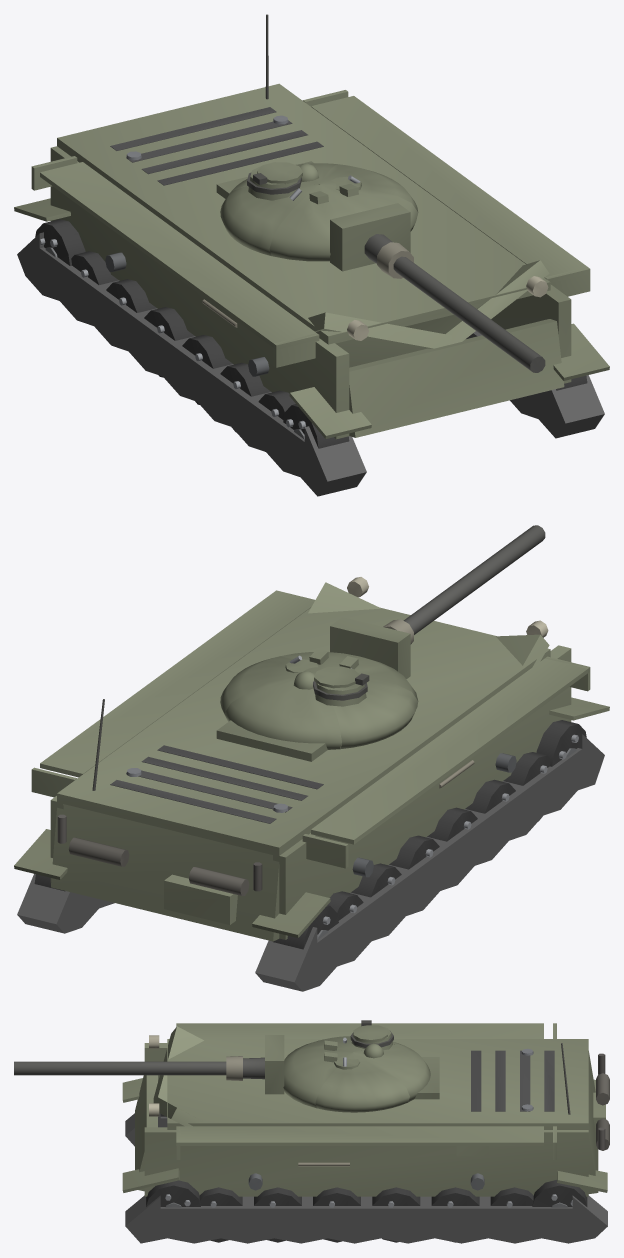
3 renders of one model, top to bottom at view 1: azimuth 30°, elevation 25°; view 2: azimuth 150°, elevation 25°; view 3: azimuth 270°, elevation 25°, orthographic. The views are drawn at different scales.
Visible parts, largest first — view 1: hullTop, hullSide, tracks, lowerPlate, glacis, turretFront, turretSide, barrel, mantlet, turretRoof, wheel7, wheel2 (+6 smaller); view 2: hullTop, hullSide, tracks, hullRear, turretRear, turretSide, barrel, mantlet, turretRoof, glacis, turretFront, wheel6 (+7 smaller); view 3: hullSide, hullTop, tracks, barrel, turretSide, turretFront, turretRear, hullRear, turretRoof, glacis, lowerPlate, mantlet (+8 smaller).
Part boxes in pixels (bbox=[...]): hullTop: bbox=[57, 83, 550, 344]; hullSide: bbox=[31, 90, 590, 439]; tracks: bbox=[14, 198, 609, 496]; lowerPlate: bbox=[349, 319, 564, 437]; glacis: bbox=[308, 260, 549, 367]; turretFront: bbox=[269, 184, 418, 261]; turretSide: bbox=[220, 164, 417, 255]; barrel: bbox=[364, 234, 545, 372]; mantlet: bbox=[330, 203, 410, 271]; turretRoof: bbox=[247, 162, 361, 204]; wheel7: bbox=[35, 219, 85, 265]; wheel2: bbox=[144, 307, 194, 377]; hullTop: bbox=[57, 607, 550, 856]; hullSide: bbox=[31, 577, 590, 939]; tracks: bbox=[14, 697, 609, 991]; hullRear: bbox=[51, 699, 279, 941]; turretRear: bbox=[216, 674, 341, 761]; turretSide: bbox=[220, 656, 418, 748]; barrel: bbox=[383, 525, 545, 644]; mantlet: bbox=[330, 617, 410, 678]; turretRoof: bbox=[285, 648, 369, 706]; glacis: bbox=[308, 582, 549, 666]; turretFront: bbox=[280, 652, 417, 700]; wheel6: bbox=[536, 720, 586, 766]; hullSide: bbox=[144, 1023, 588, 1196]; hullTop: bbox=[167, 1039, 588, 1129]; tracks: bbox=[122, 1078, 607, 1243]; barrel: bbox=[14, 1056, 264, 1080]; turretSide: bbox=[315, 1036, 409, 1112]; turretFront: bbox=[283, 1039, 353, 1108]; turretRear: bbox=[354, 1044, 439, 1102]; hullRear: bbox=[561, 1043, 609, 1193]; turretRoof: bbox=[324, 1020, 393, 1069]; glacis: bbox=[153, 1026, 203, 1126]; lowerPlate: bbox=[135, 1075, 157, 1191]; mantlet: bbox=[265, 1035, 284, 1094].
Bounding box in the file's own units: 4.38 × 3.09 × 9.26.
